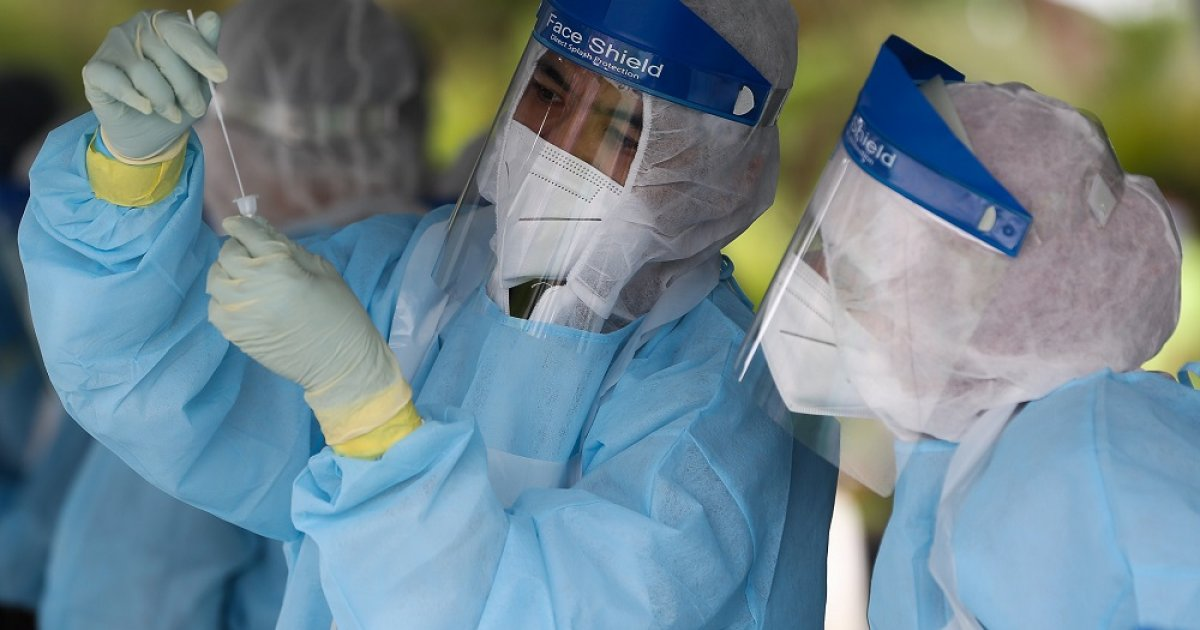Face_Shield: (746, 34, 1032, 480), (457, 1, 759, 351)
Gloves: (205, 211, 430, 461), (83, 7, 246, 215)
with_mask: (478, 67, 645, 298), (759, 212, 894, 418)
